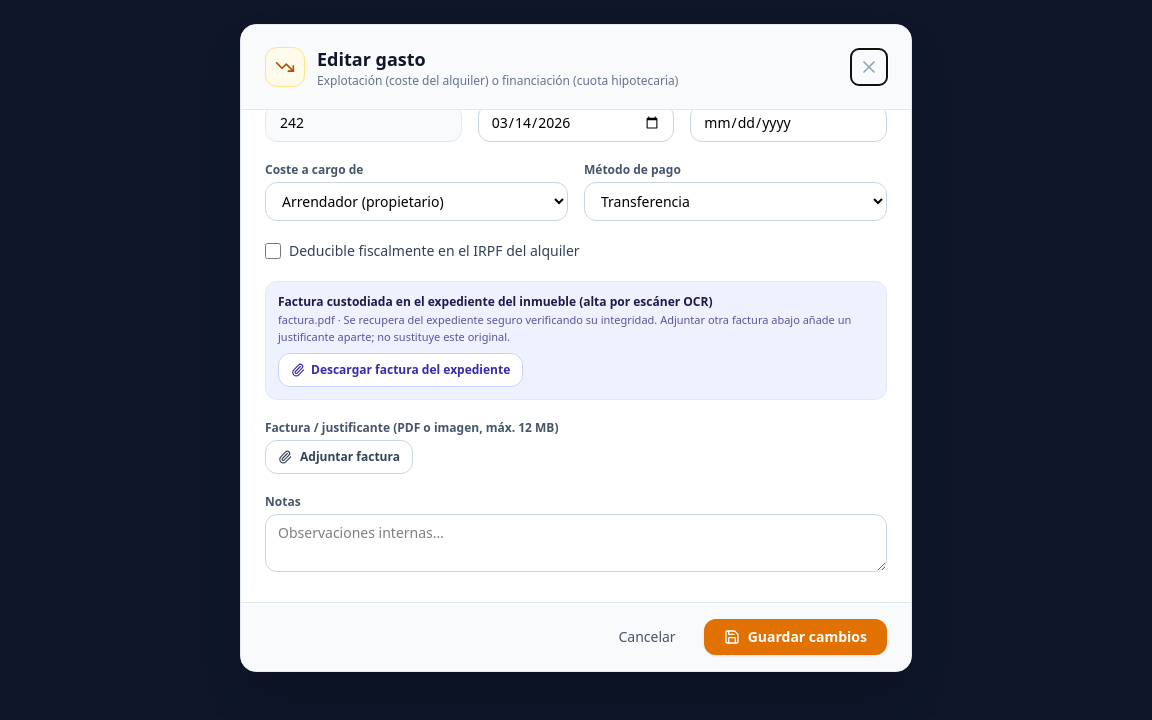
UX-4 · GastoModal › P5.3 · si la descarga verificada falla, se muestra error (no éxito ficticio) dentro del modal
This screenshot has width=1152, height=720.
(page scrolled)
Click the button "Descargar factura del expediente": (401, 370) [278, 353, 523, 387]
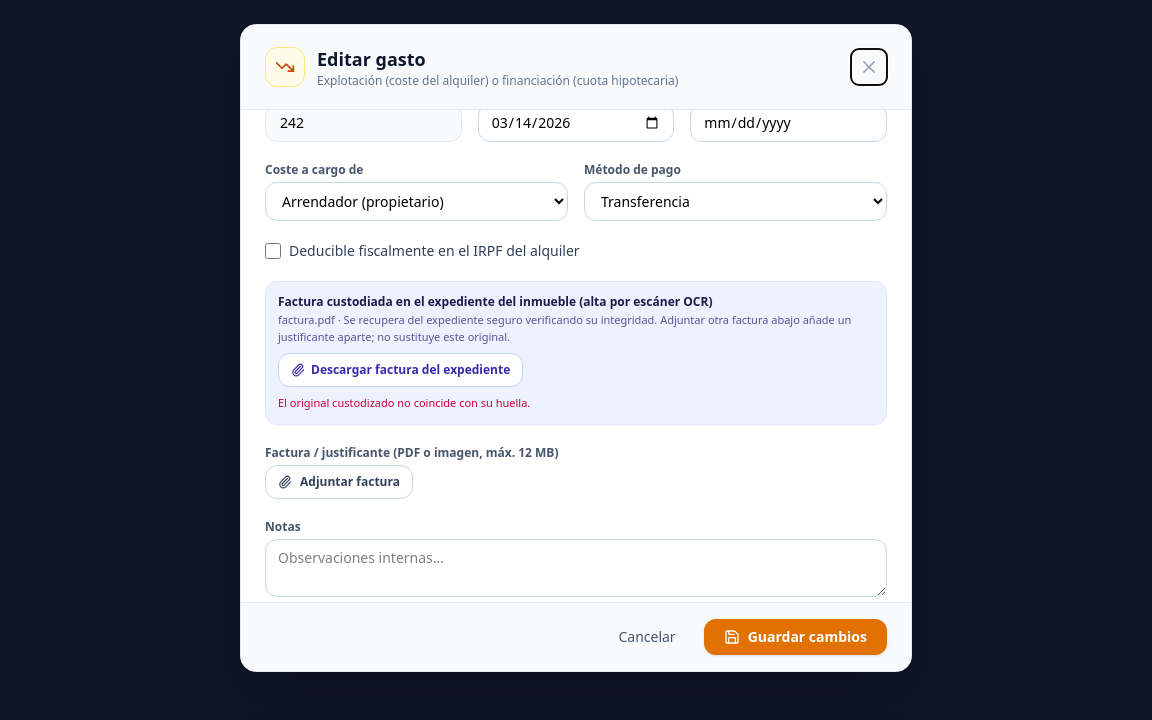
Expected: the message shows "no coincide con su huella", [278, 395, 530, 410]
